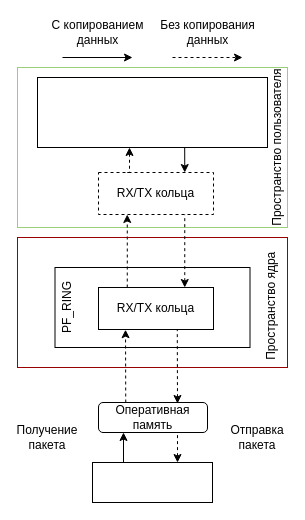
The diagram is 305 pixels wide and 520 high, and some of its shapes have lost their labels. The box of each missing label's shape, as (x1, y1, x2, y2) in pixels:
Программа: (36, 76, 268, 148)
Сетевая карта: (92, 462, 212, 502)
